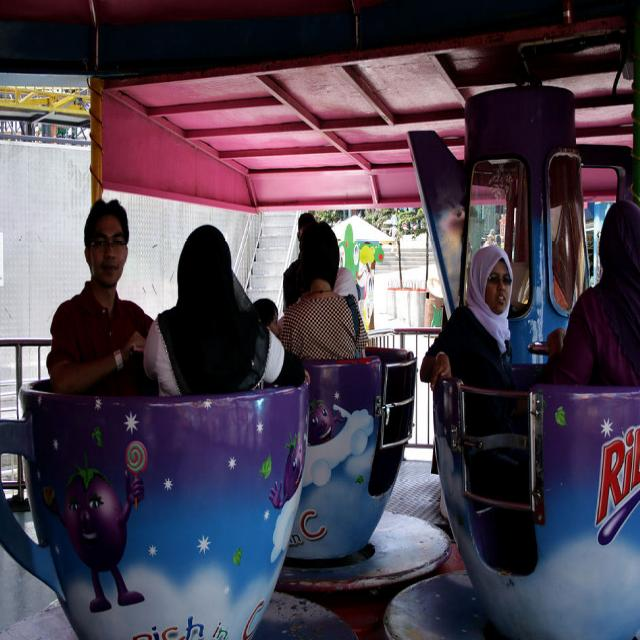Glasses: (90, 238, 130, 253), (489, 273, 513, 285)
